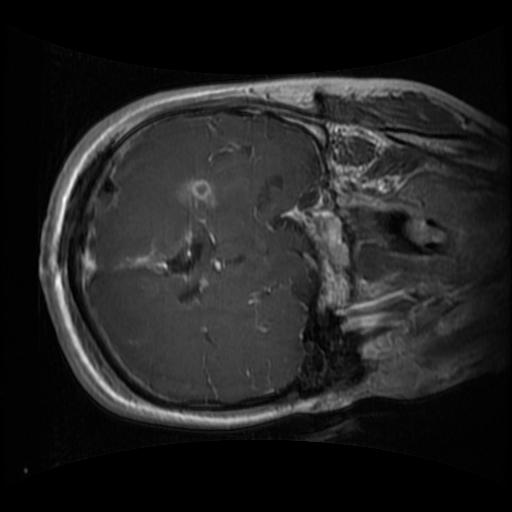glioma: (112, 176, 223, 313)
